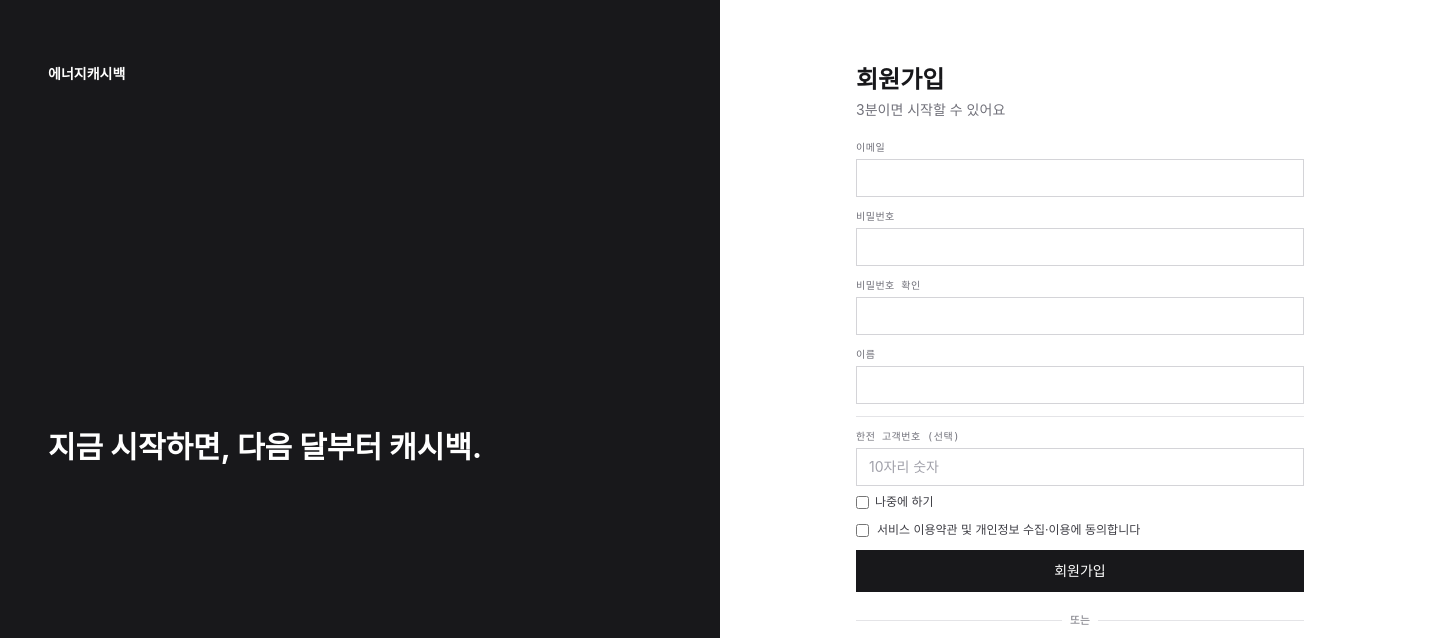
Scenario: SignupForm › password mismatch shows error
Type "new@example.com" into the field labelled "이메일" at point(1080, 178), box [856,159,1304,197]
Type "nilm-mock-2026!" into the password field labelled "비밀번호" at point(1080, 247), box [856,228,1304,266]
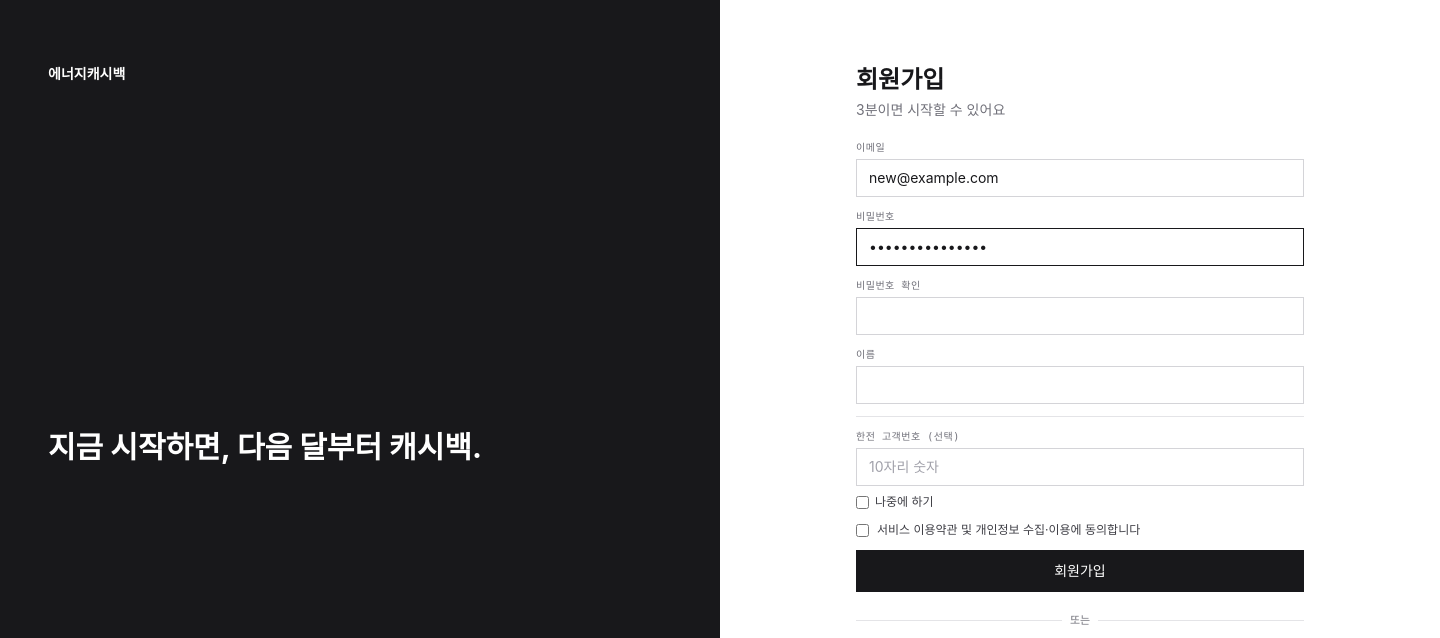
Type "different1" into the password field labelled "비밀번호 확인" at point(1080, 316), box [856,297,1304,335]
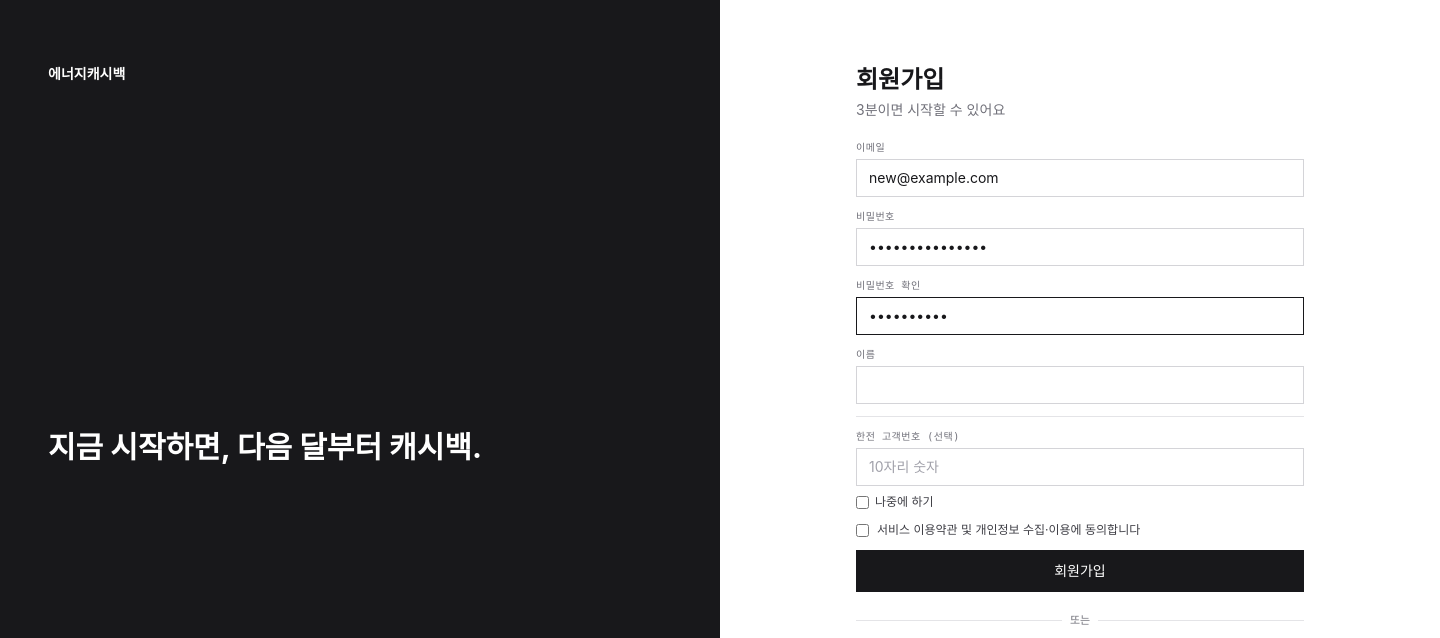
Type "새 사용자" into the field labelled "이름" at point(1080, 385), box [856,366,1304,404]
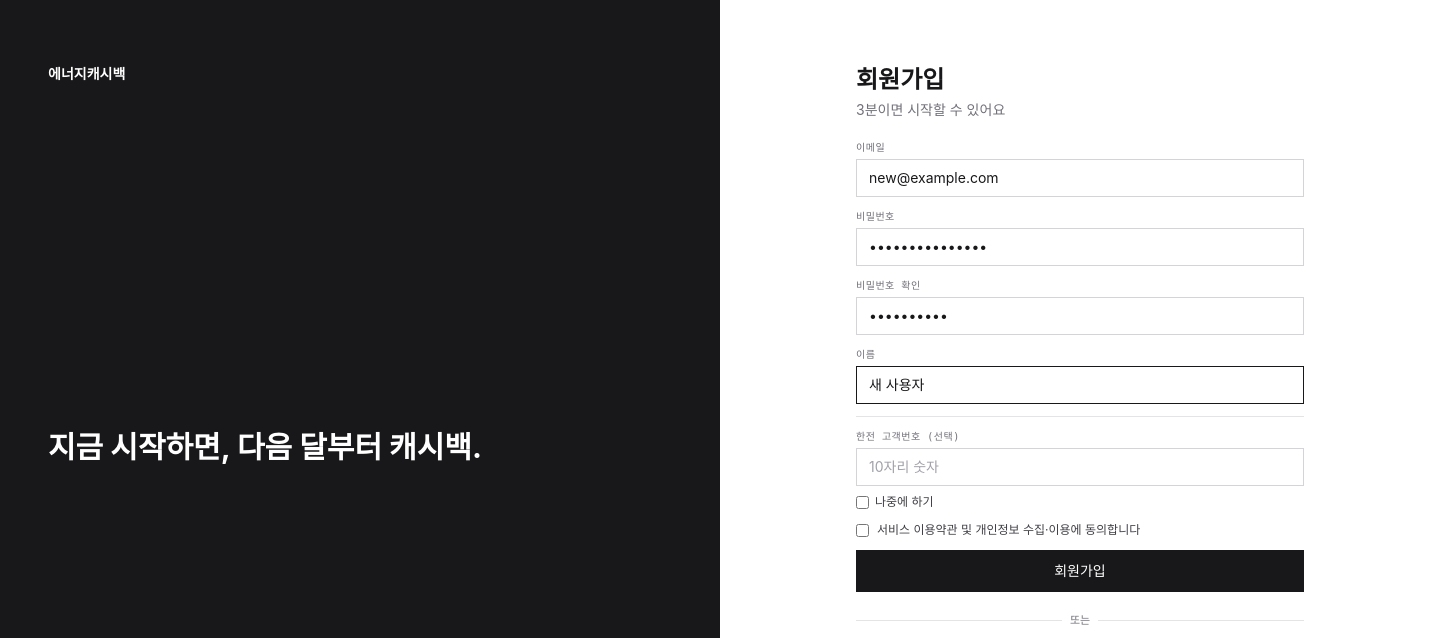
Click the checkbox labelled "나중에 하기" at point(862, 502), box [856,496,869,508]
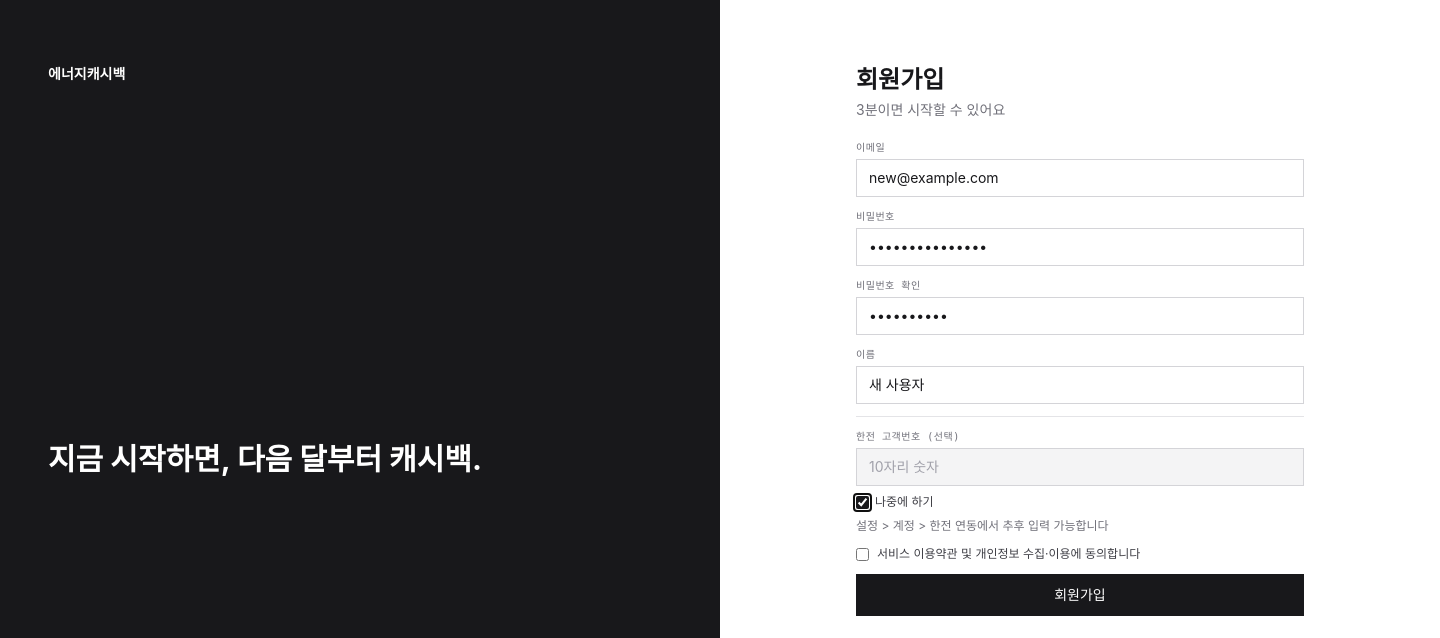
Click the checkbox labelled "서비스 이용약관 및 개인정보 수집·이용에 동의합니다" at point(862, 554), box [856,548,869,561]
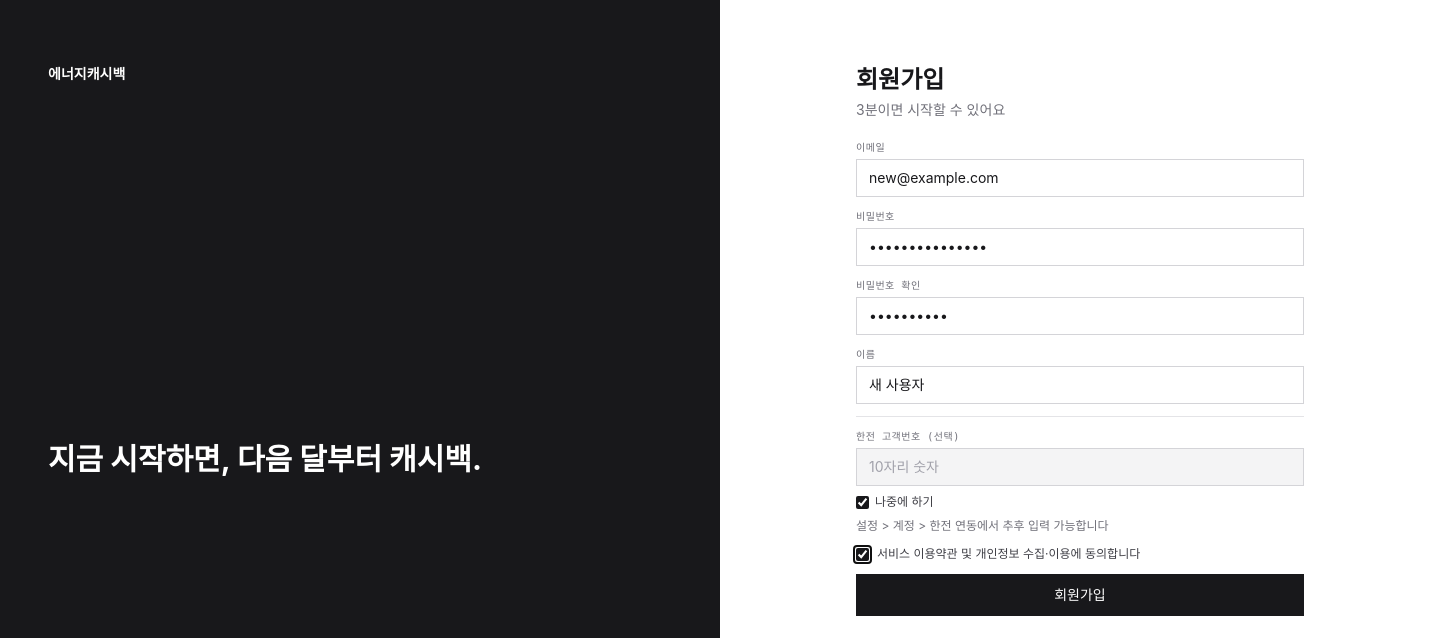
Click the button "회원가입" at point(1080, 595), box [856,574,1304,616]
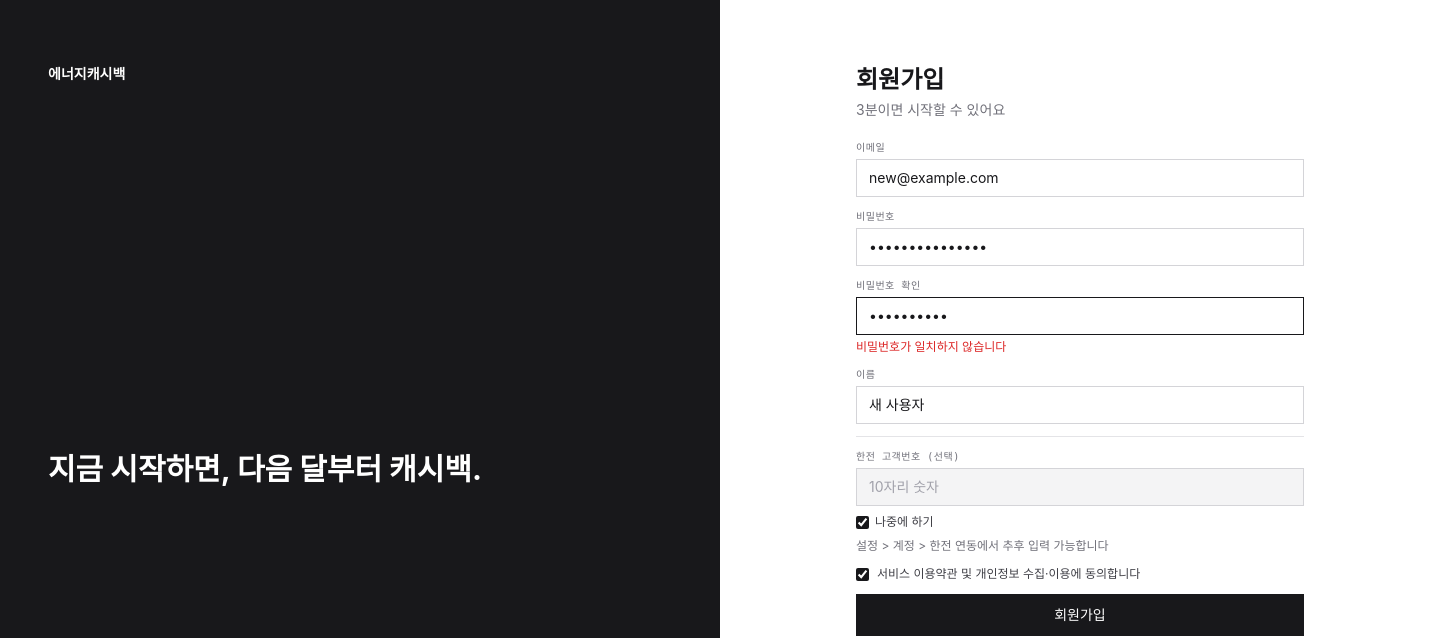
Check: the text "비밀번호가 일치하지 않습니다" is shown, box [856,339,1006,354]
